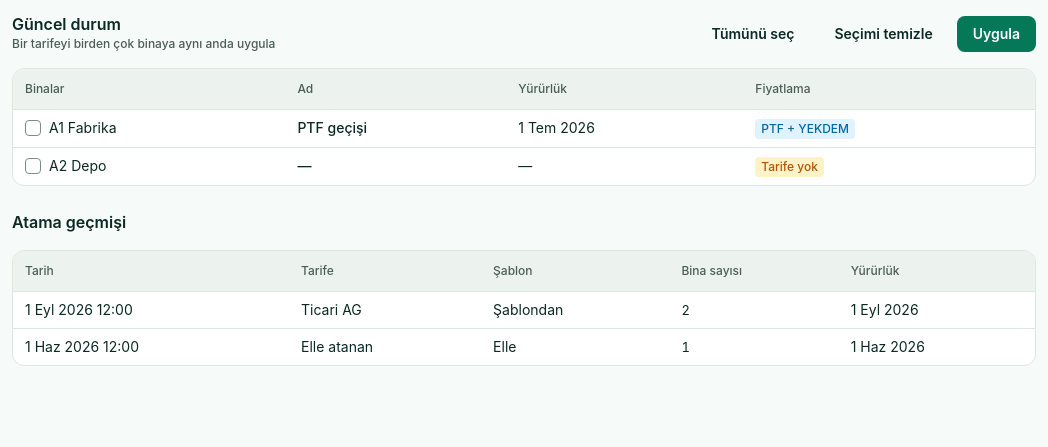
it: BulkTabView › refuses to assign with nothing selected
Click the button "Uygula".
click(996, 34)  # box [957,16,1036,52]
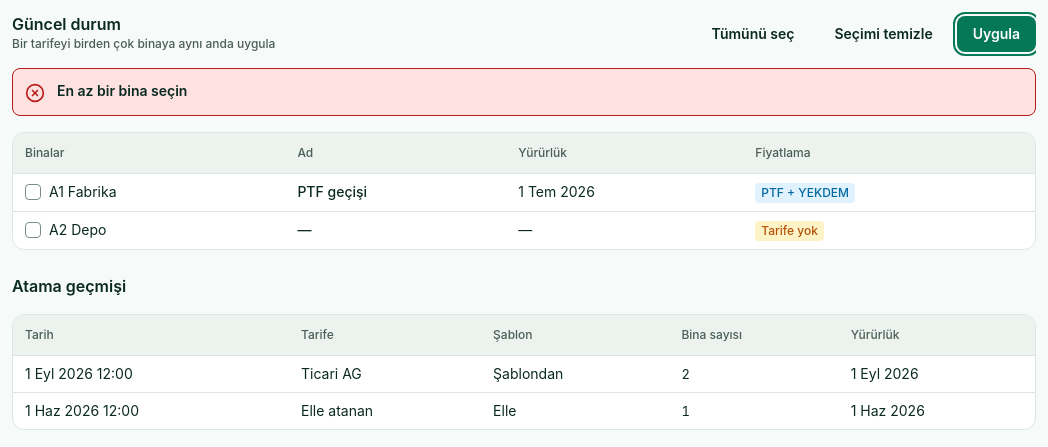
Now the message reads "En az bir bina seçin", box [57,82,187,99]
